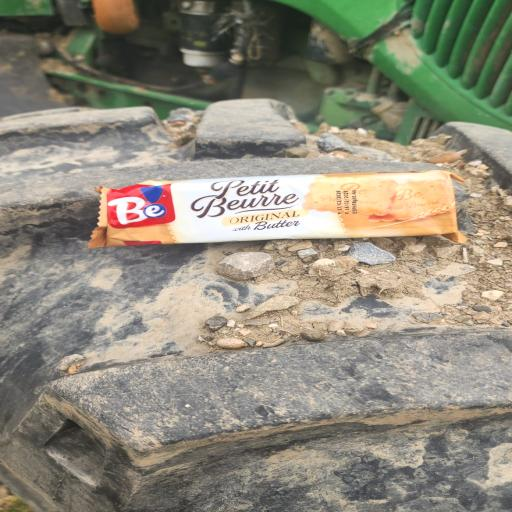petit-beurre: (46, 98, 488, 294)
